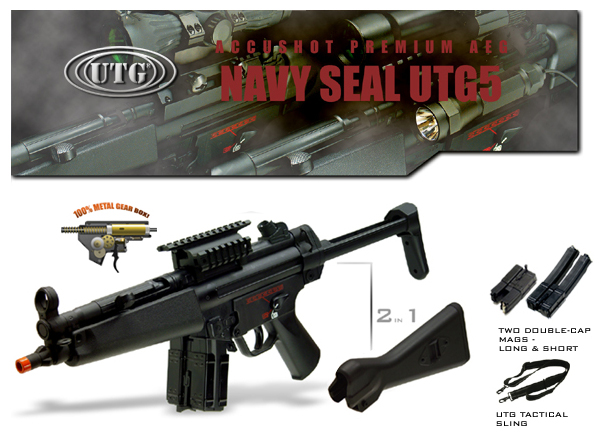rifle: (10, 200, 416, 399)
